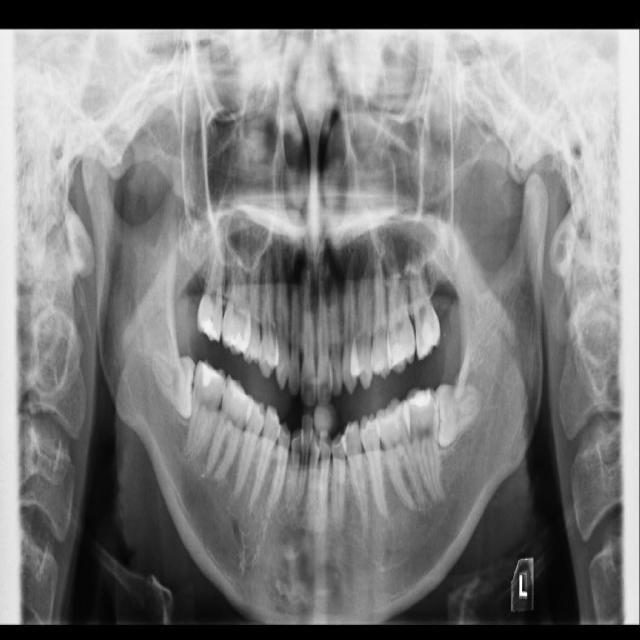73: (591, 564, 593, 577)
BioHorizons Implant: (403, 238, 444, 362)
Biomet 3i Implant: (429, 383, 484, 451)
Blue Sky Bio Implant: (401, 386, 444, 501)
Caries: (196, 221, 226, 342)
Implant: (182, 358, 230, 465)
Keystone Dental Implant: (150, 350, 197, 420)
